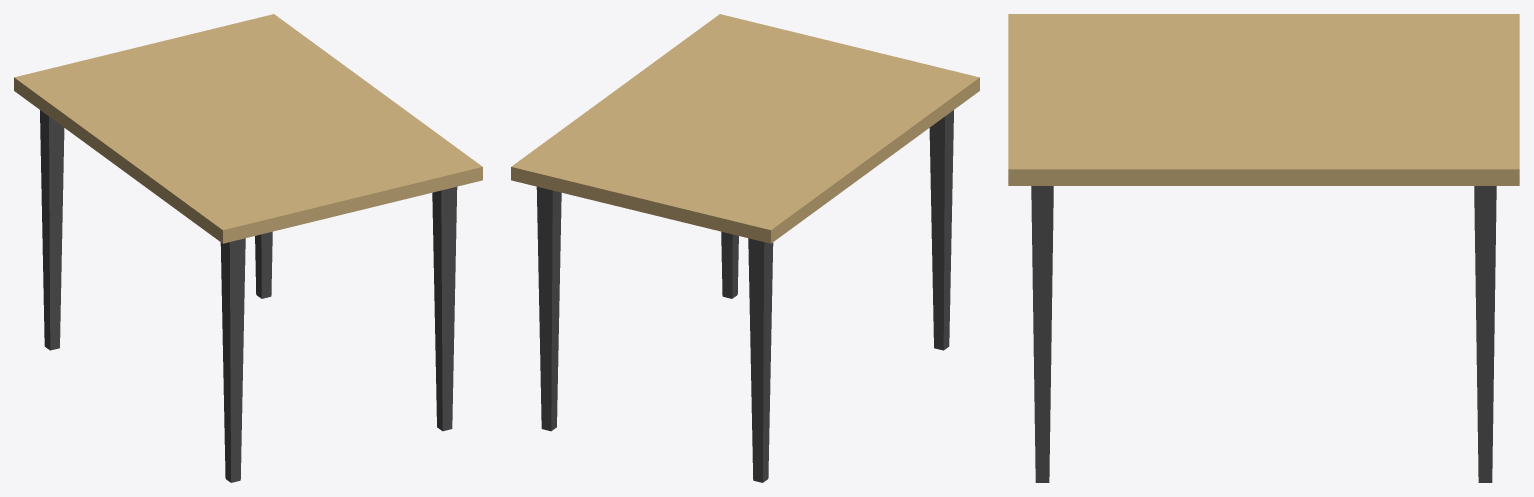
The model's file is table_demo.dae.
3 renders of one model, left to right at view 1: azimuth 30°, elevation 25°; view 2: azimuth 150°, elevation 25°; view 3: azimuth 270°, elevation 25°, orthographic. The views are drawn at different scales.
Parts seen in each view (by area): view 1: base_link; view 2: base_link; view 3: base_link.
Boxes of the visible parts, box(x1,y1,x2,y2) form: base_link: box(14, 14, 482, 482); base_link: box(511, 14, 979, 482); base_link: box(1008, 14, 1519, 482).
Size of the model in its own units: 0.805 by 1.12 by 0.786.
